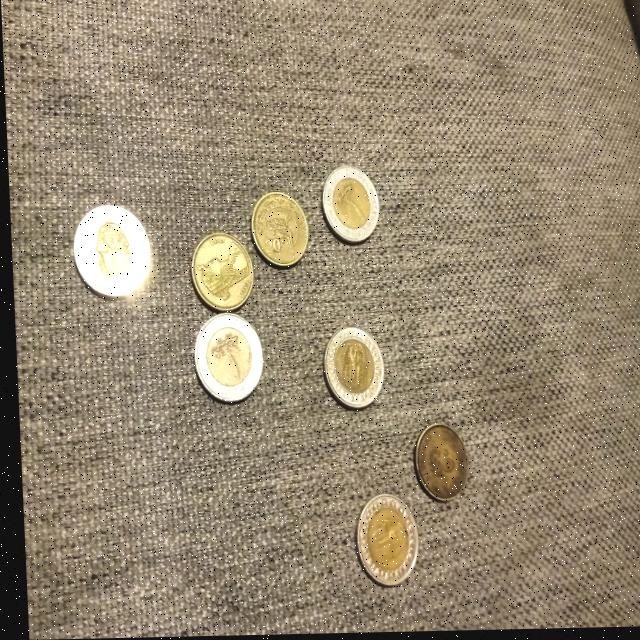Half Pound: (176, 229, 252, 315), (242, 181, 309, 278), (401, 419, 473, 508)
One Pound: (57, 188, 152, 316), (176, 309, 266, 413), (310, 324, 390, 416), (347, 485, 409, 594), (312, 167, 389, 245)
